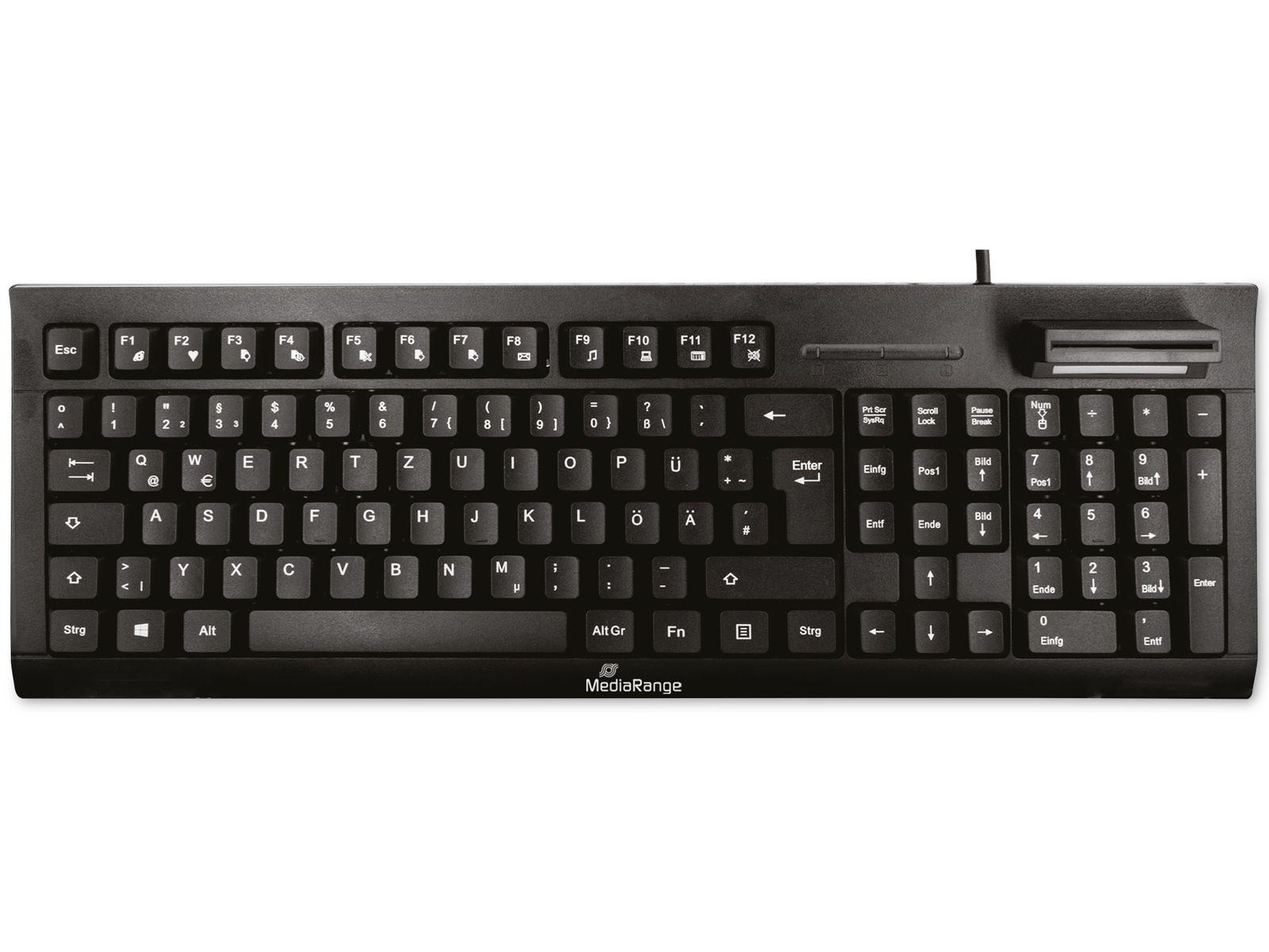0: (577, 389, 616, 436)
1: (97, 390, 135, 436)
2: (149, 390, 189, 436)
3: (202, 389, 242, 436)
4: (257, 389, 294, 435)
5: (309, 388, 349, 436)
6: (364, 388, 403, 436)
7: (418, 389, 455, 436)
8: (471, 389, 509, 436)
9: (523, 388, 562, 436)
a: (138, 497, 175, 543)
accent: (684, 388, 723, 435)
ae: (673, 496, 711, 543)
alt-left: (178, 606, 231, 651)
altgr-right: (581, 605, 634, 651)
b: (378, 551, 417, 597)
c: (271, 551, 309, 597)
caret: (41, 389, 82, 436)
comma: (539, 551, 577, 597)
d: (243, 497, 282, 543)
del: (738, 388, 833, 436)
e: (230, 443, 268, 489)
enter: (769, 442, 834, 544)
f: (298, 497, 335, 542)
g: (351, 497, 389, 542)
h: (405, 497, 443, 542)
hash: (728, 497, 766, 543)
i: (499, 443, 536, 488)
j: (458, 497, 496, 543)
k: (512, 497, 550, 542)
keyboard: (7, 281, 1256, 700)
l: (565, 497, 603, 542)
less: (111, 551, 149, 598)
m: (485, 551, 523, 597)
minus: (646, 551, 684, 597)
n: (432, 551, 470, 596)
o: (551, 442, 590, 489)
oe: (619, 497, 657, 543)
p: (604, 442, 642, 488)
plus: (712, 443, 752, 490)
point: (593, 551, 631, 597)
q: (124, 444, 162, 490)
r: (283, 443, 321, 489)
s: (191, 497, 228, 543)
shift-left: (44, 553, 97, 598)
shift-lock: (42, 498, 123, 544)
shift-right: (702, 551, 835, 597)
space: (243, 605, 567, 653)
ss: (630, 387, 669, 435)
strg-left: (44, 605, 99, 651)
strg-right: (782, 606, 837, 652)
t: (339, 443, 375, 488)
tab: (44, 443, 109, 491)
u: (445, 443, 482, 489)
ue: (658, 442, 696, 489)
v: (326, 551, 363, 596)
w: (178, 444, 215, 491)
x: (219, 551, 255, 597)
y: (166, 551, 202, 597)
z: (392, 443, 429, 489)
